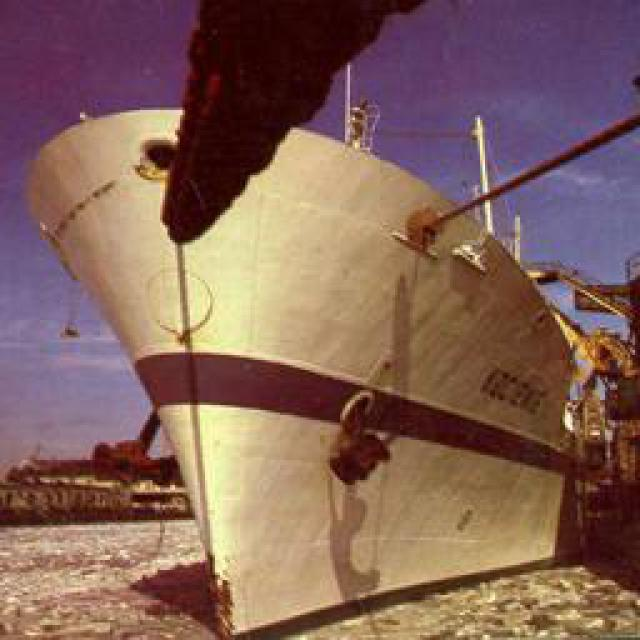Ship: (22, 63, 606, 640)
